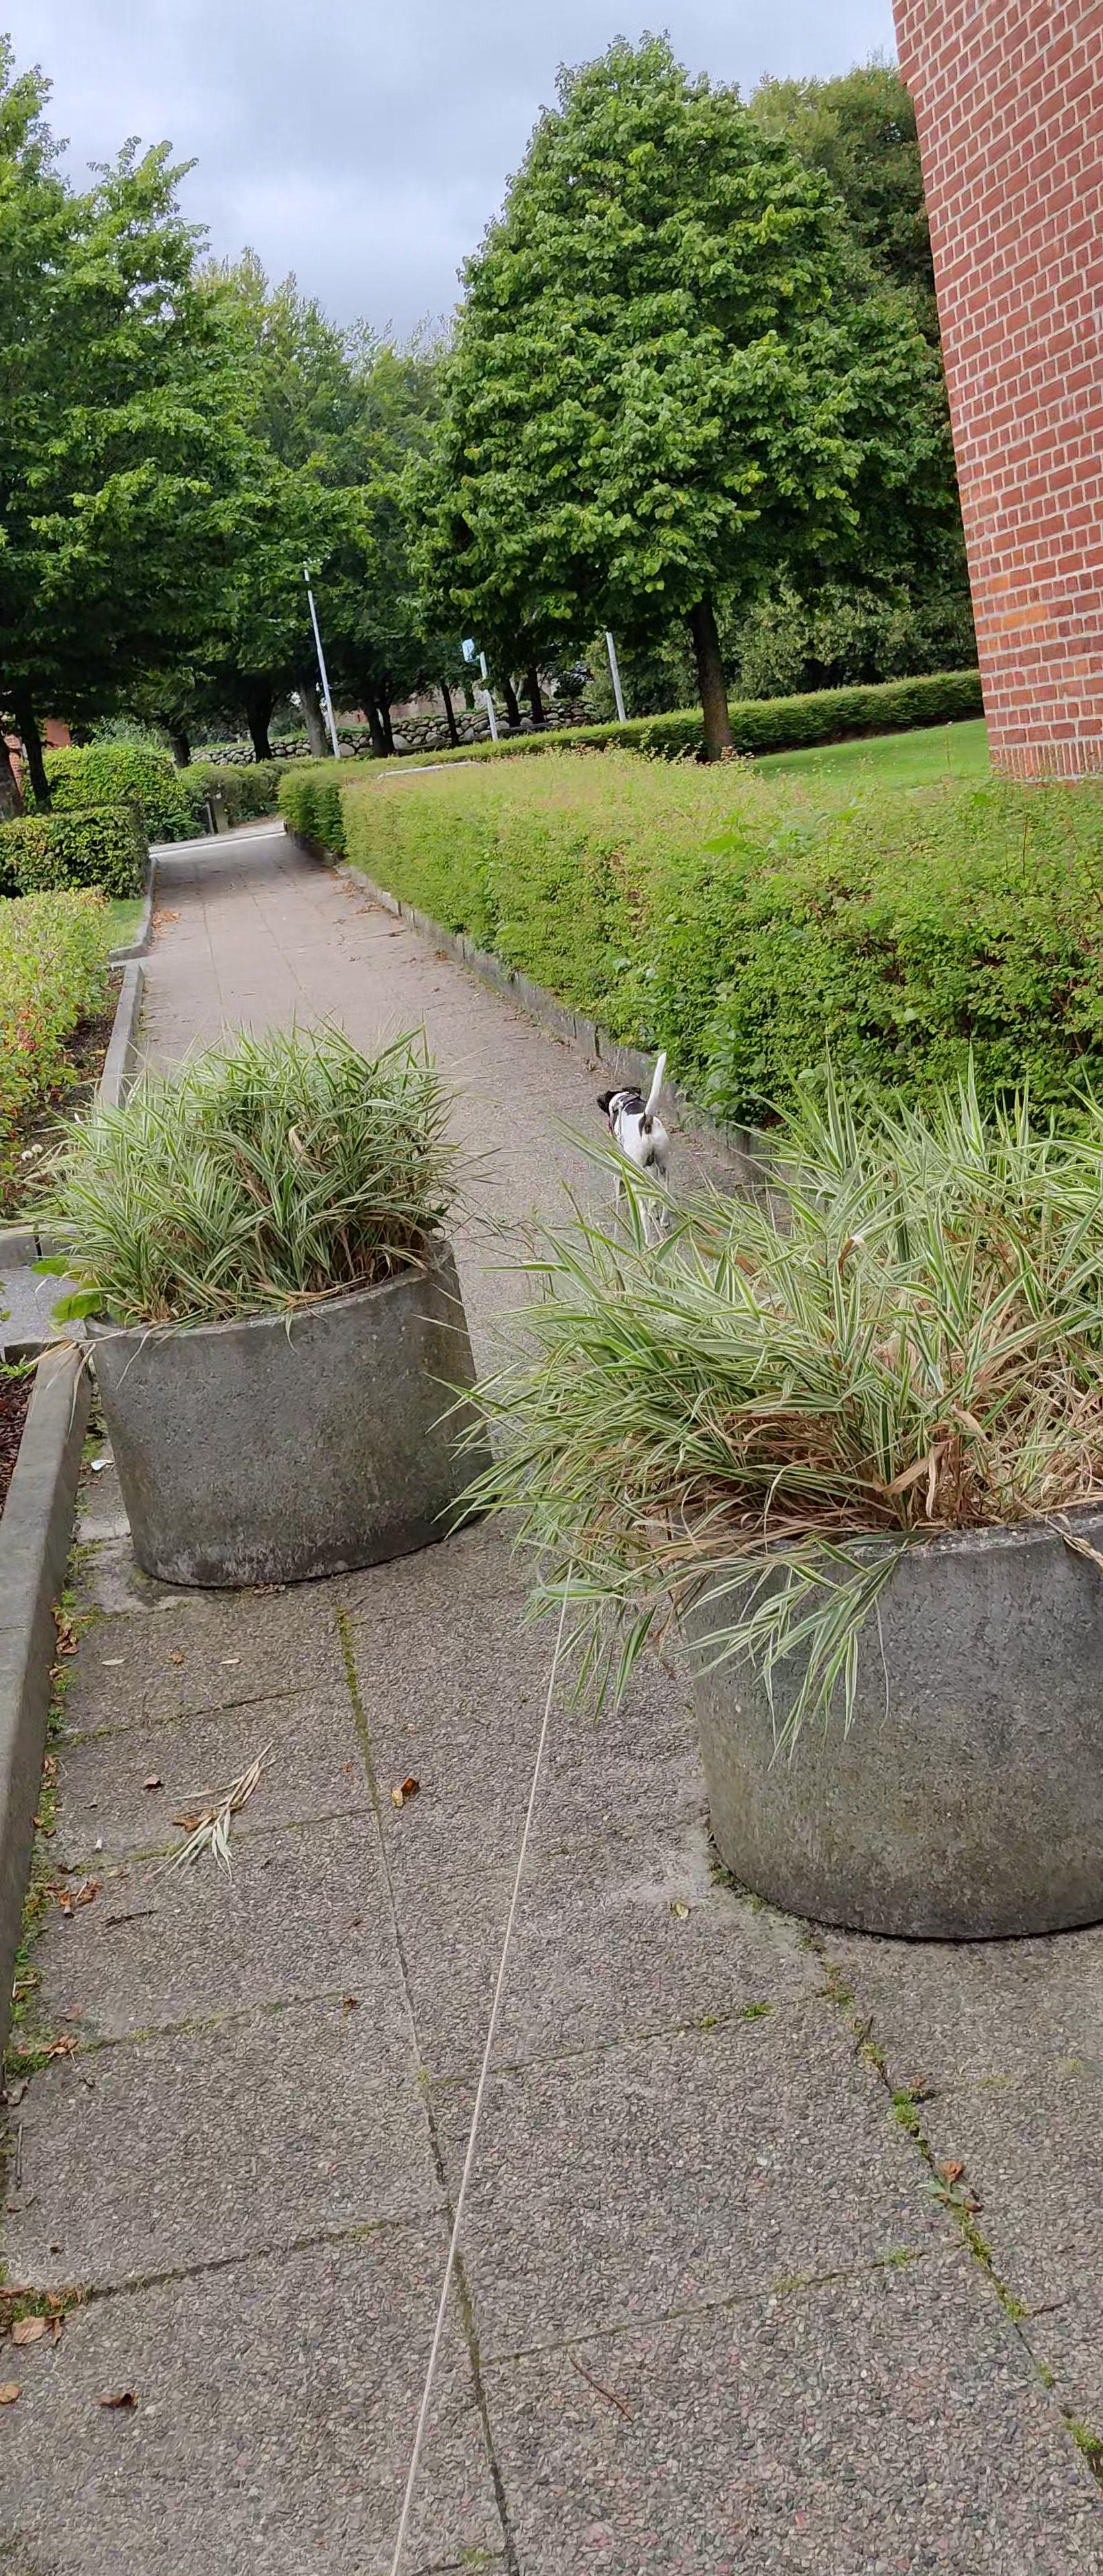Dog: (595, 1043, 677, 1250)
